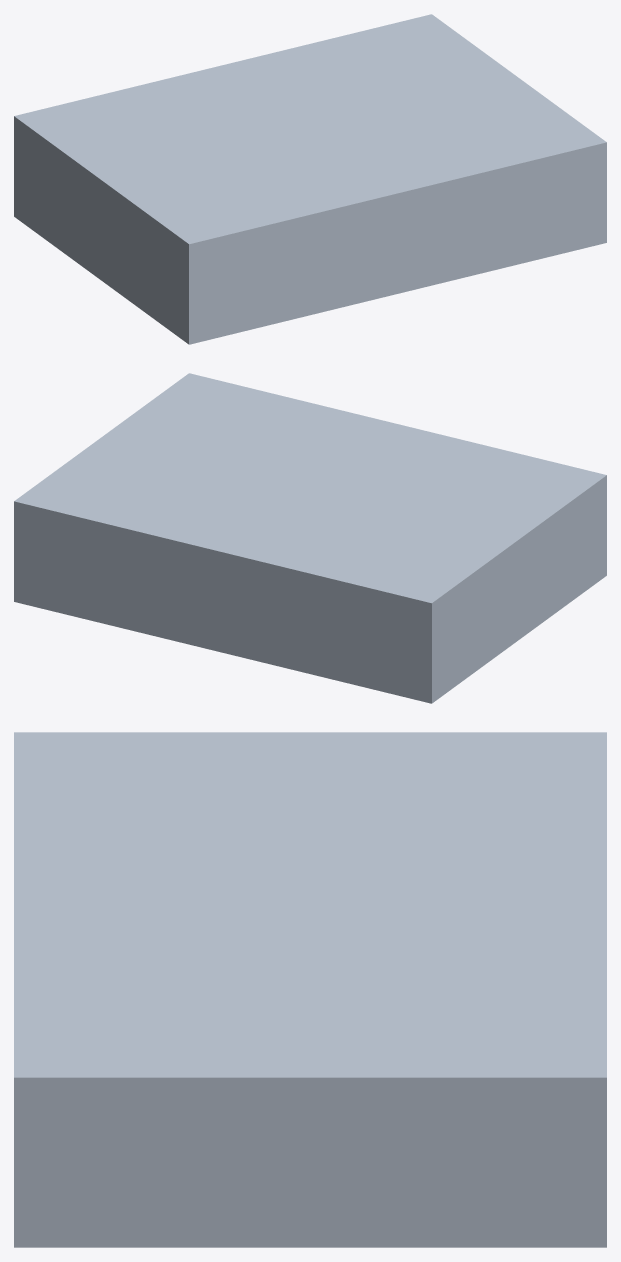
The model's file is bhop_dea.glb.
3 renders of one model, top to bottom at view 1: azimuth 30°, elevation 25°; view 2: azimuth 150°, elevation 25°; view 3: azimuth 270°, elevation 25°, orthographic. The views are drawn at different scales.
Visible parts, largest first — view 1: bhop_dea_sky; view 2: bhop_dea_sky; view 3: bhop_dea_sky.
Part boxes in pixels (left/top/right/bottom): bhop_dea_sky: left=14, top=14, right=606, bottom=344; bhop_dea_sky: left=14, top=373, right=606, bottom=703; bhop_dea_sky: left=14, top=732, right=606, bottom=1247.
Size of the model in its own units: 103 by 23.67 by 74.78.
